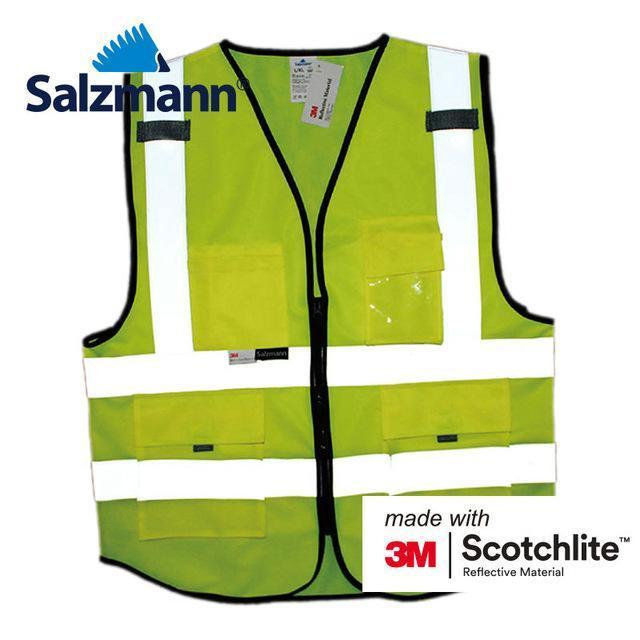vest: (78, 40, 559, 604)
